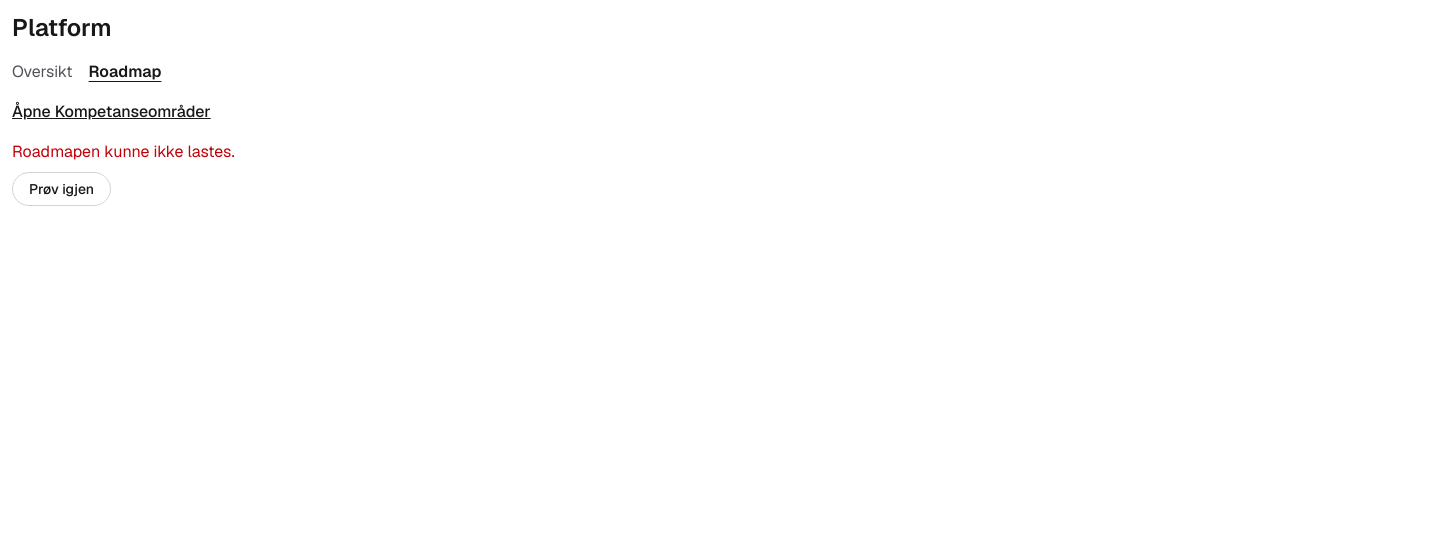
Test: RoadmapPage read shell › shows the normal error state with retry, not no-access, for a non-forbidden read failure
Expected: the message reads "Roadmapen kunne ikke lastes.", [12, 141, 235, 162]
Click the button "Prøv igjen" at (62, 189), box [12, 172, 111, 206]
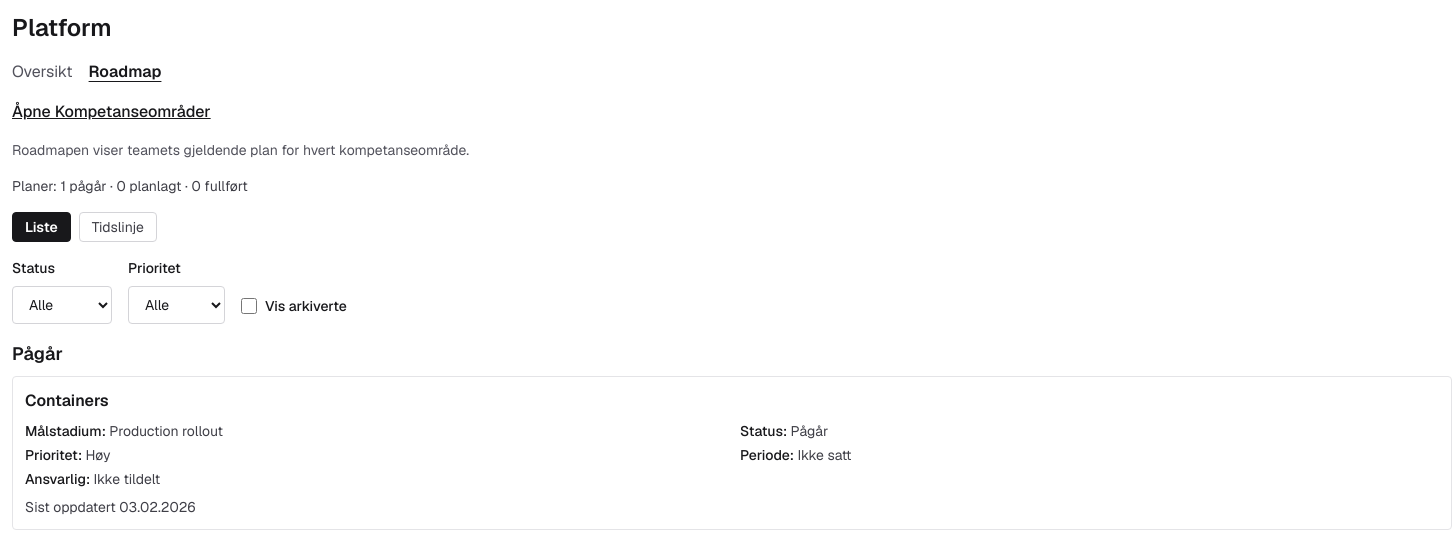
Expected: the heading "Containers" is shown, [25, 390, 109, 411]
